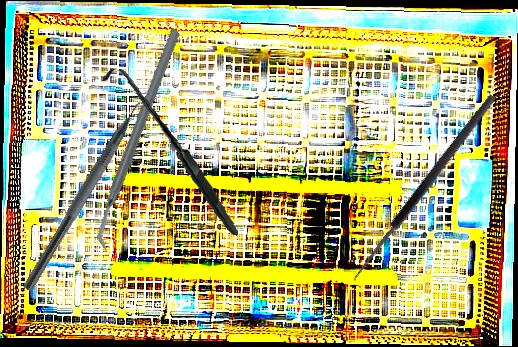Chopper: (27, 26, 251, 253), (22, 82, 163, 301)
Hook Surgical: (348, 92, 507, 291), (90, 68, 251, 236)
